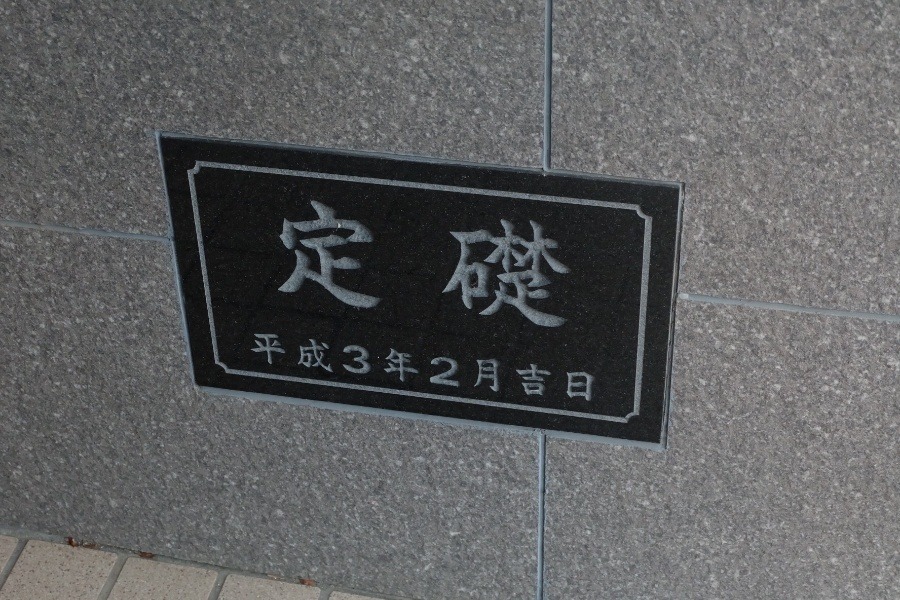text: (289, 194, 304, 337), (305, 194, 320, 337), (321, 194, 336, 337), (337, 194, 352, 337), (353, 194, 368, 337), (369, 194, 384, 337), (385, 194, 400, 337), (401, 194, 416, 337), (417, 194, 432, 337), (433, 194, 448, 337), (449, 194, 464, 337), (465, 194, 480, 337), (481, 194, 496, 337), (497, 194, 512, 337), (513, 194, 528, 337), (529, 194, 544, 337), (545, 194, 560, 337), (561, 194, 574, 337), (277, 194, 288, 337), (257, 333, 272, 404), (273, 333, 288, 404), (289, 333, 304, 404), (305, 333, 320, 404), (321, 333, 336, 404), (337, 333, 352, 404), (353, 333, 368, 404), (369, 333, 384, 404), (385, 333, 400, 404), (401, 333, 416, 404), (417, 333, 432, 404), (433, 333, 448, 404), (449, 333, 464, 404), (465, 333, 480, 404), (481, 333, 496, 404), (497, 333, 512, 404), (513, 333, 528, 404), (529, 333, 544, 404), (545, 333, 560, 404), (561, 333, 576, 404), (577, 333, 592, 404), (253, 333, 256, 404), (593, 333, 594, 404)
